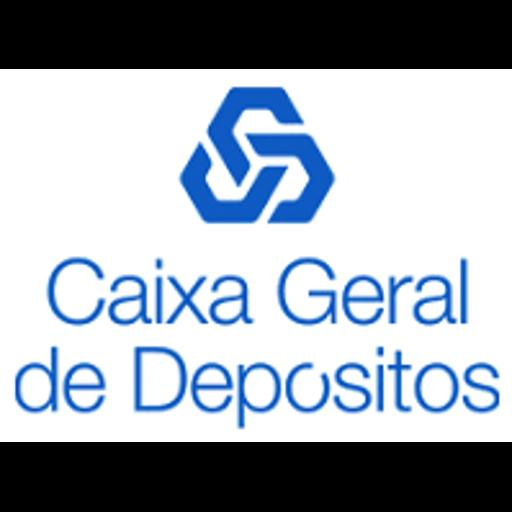Caixa Geral de Depositos: (0, 69, 512, 442)
